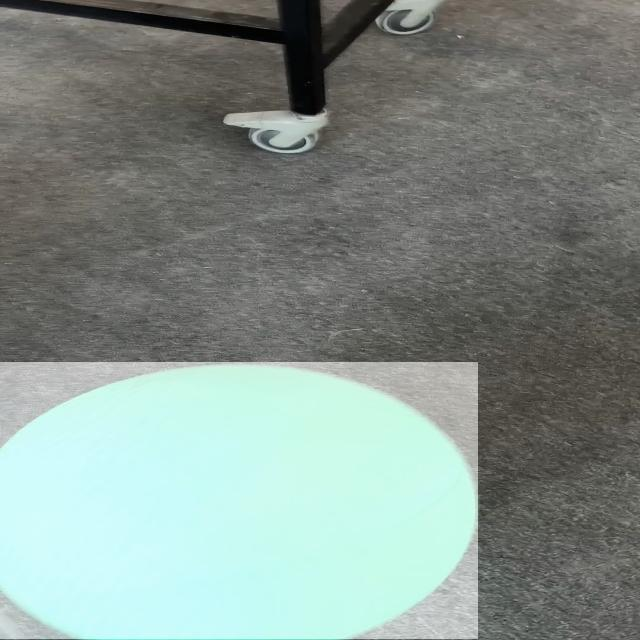Algae: (1, 362, 478, 639)
